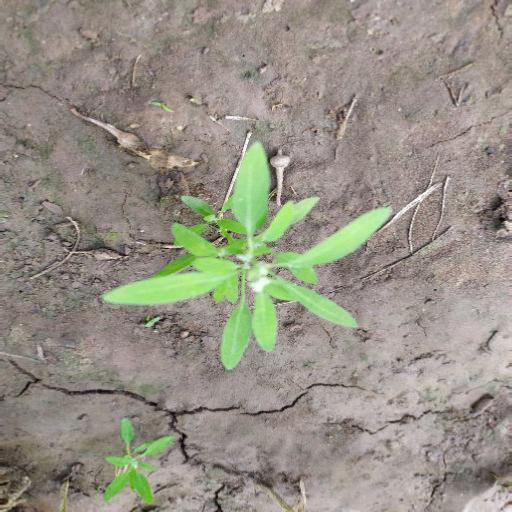weed: (97, 137, 398, 363), (105, 405, 173, 508)
